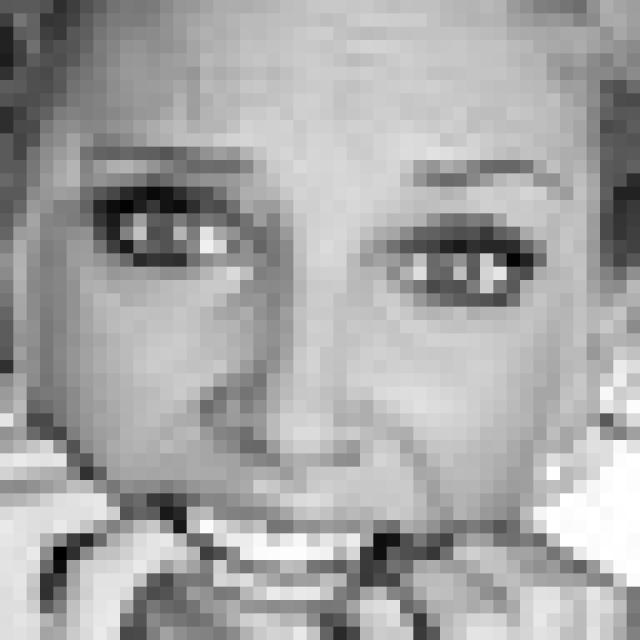fear: (72, 135, 583, 640)
